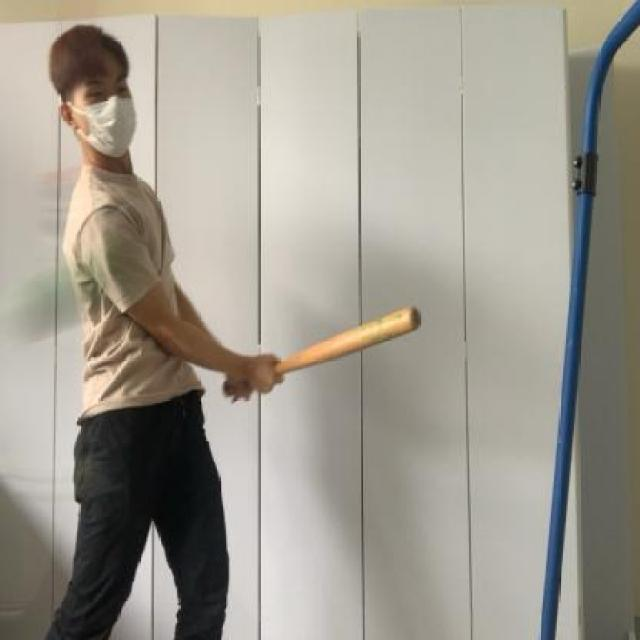baseball: (10, 242, 127, 342)
